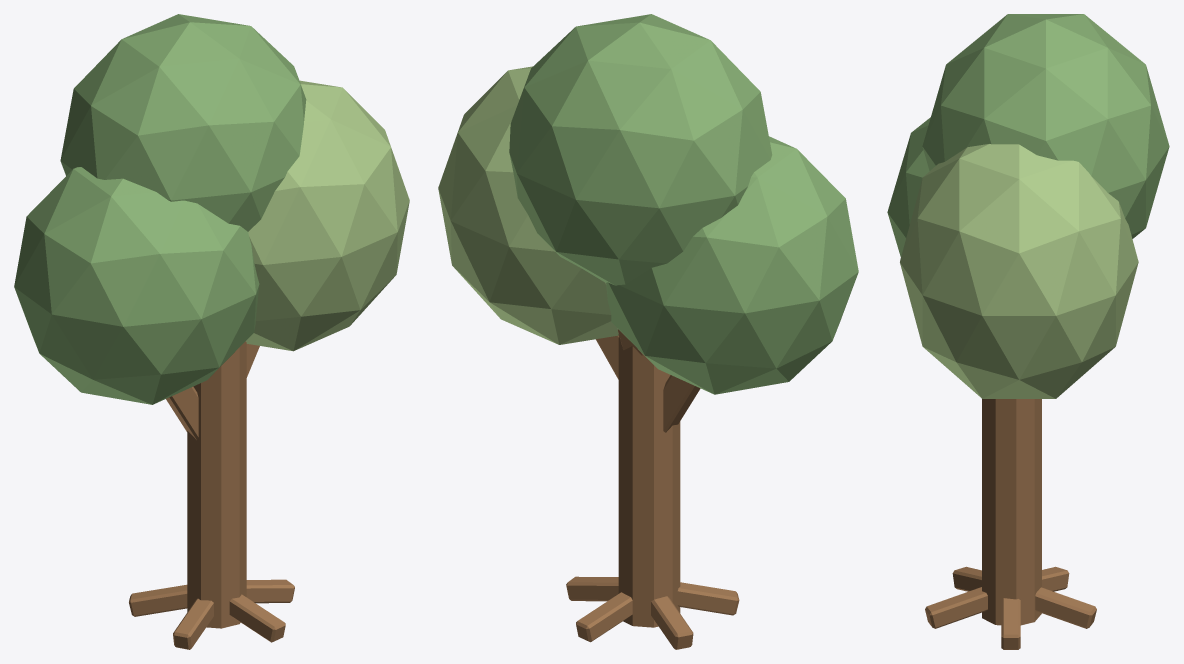
3 views of the same model, side by side, from view 1: azimuth 30°, elevation 25°; view 2: azimuth 150°, elevation 25°; view 3: azimuth 270°, elevation 25° (orthographic). The views are drawn at different scales.
Visible parts, largest first — view 1: village-orchard-tree-01; view 2: village-orchard-tree-01; view 3: village-orchard-tree-01.
Boxes of the visible parts, x1,y1,x2,y2 form: village-orchard-tree-01: (14,14,409,649); village-orchard-tree-01: (438,14,858,649); village-orchard-tree-01: (887,14,1169,649).
Bounding box in the file's own units: 2.06 × 3.17 × 1.37.
